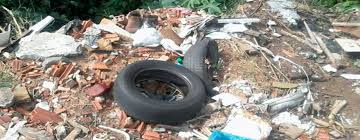tire: (114, 61, 211, 123), (182, 39, 227, 98)
